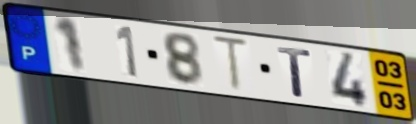1: (52, 16, 89, 75), (114, 25, 141, 81)
4: (329, 50, 370, 109)
8: (160, 30, 206, 88)
T: (210, 33, 253, 96), (275, 44, 314, 100)
